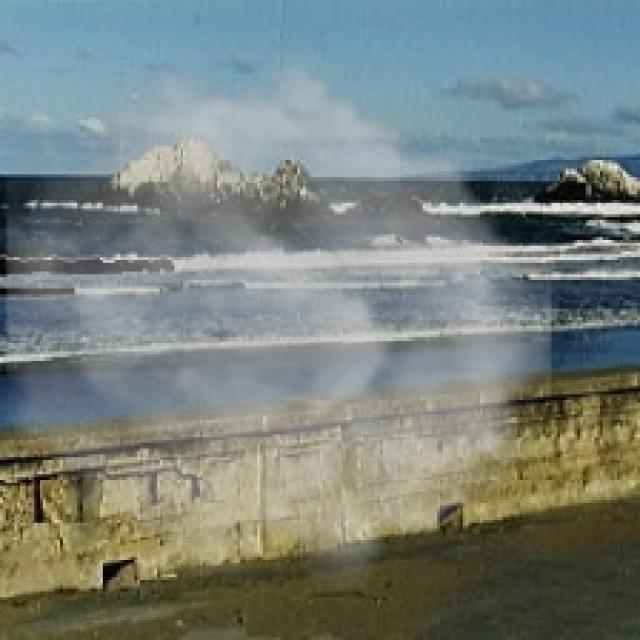smoke: (6, 43, 551, 594)
